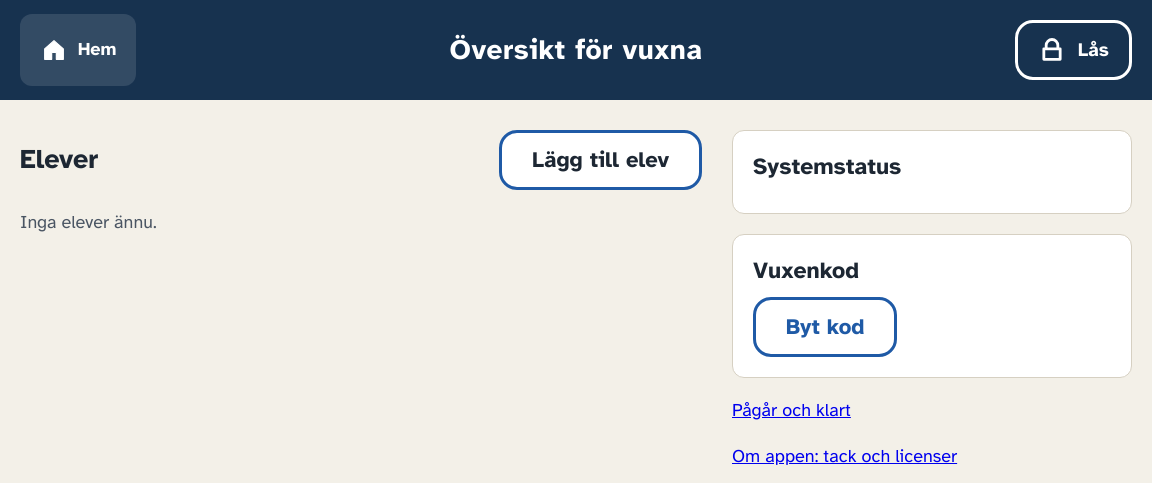
Test: credits the voices and links the third-party notices from the overview
The width and height of the screenshot is (1152, 483).
Click the link "Om appen: tack och licenser" at (845, 456), box [732,445,957,467]
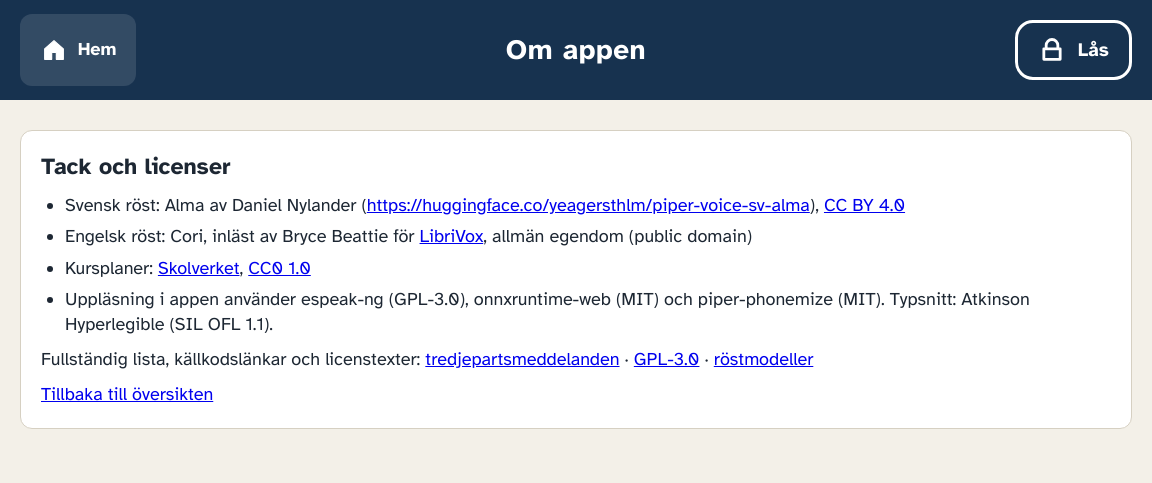
Expected: the list item "Svensk röst: Alma av Daniel Nylander" is shown, [65,194,367,216]
Expected: the link "https://huggingface.co/yeagersthlm/piper-voice-sv-alma" is shown, [367,194,810,216]
Expected: the link "CC BY 4.0" is shown, [824,194,905,216]
